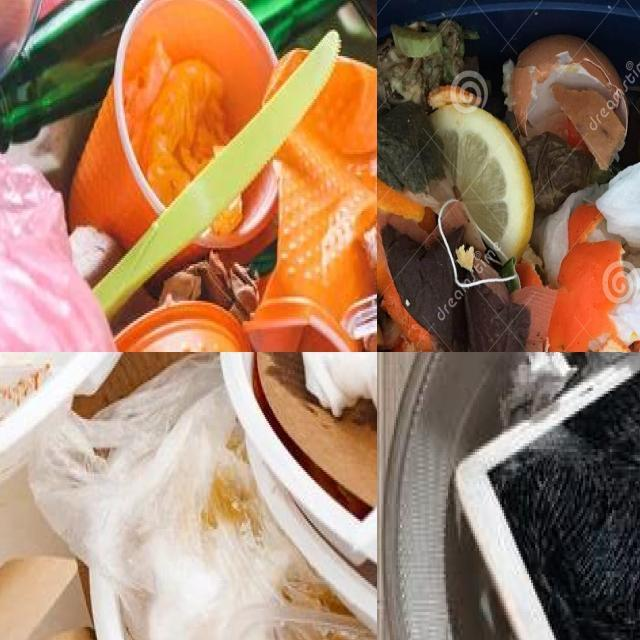Disposable: (221, 352, 377, 564), (248, 444, 377, 637), (91, 569, 126, 640)
E-Waste: (456, 352, 640, 640)
Garbage: (0, 352, 377, 640), (377, 0, 640, 352)
Glass_bottle: (0, 0, 139, 149)
Paper: (502, 352, 575, 426)
Plastic: (95, 31, 339, 316), (252, 59, 377, 352), (0, 160, 118, 352), (115, 301, 251, 352)
contaminated_waste: (258, 352, 377, 506)
top_view_waste: (384, 352, 640, 640), (456, 352, 640, 640)
